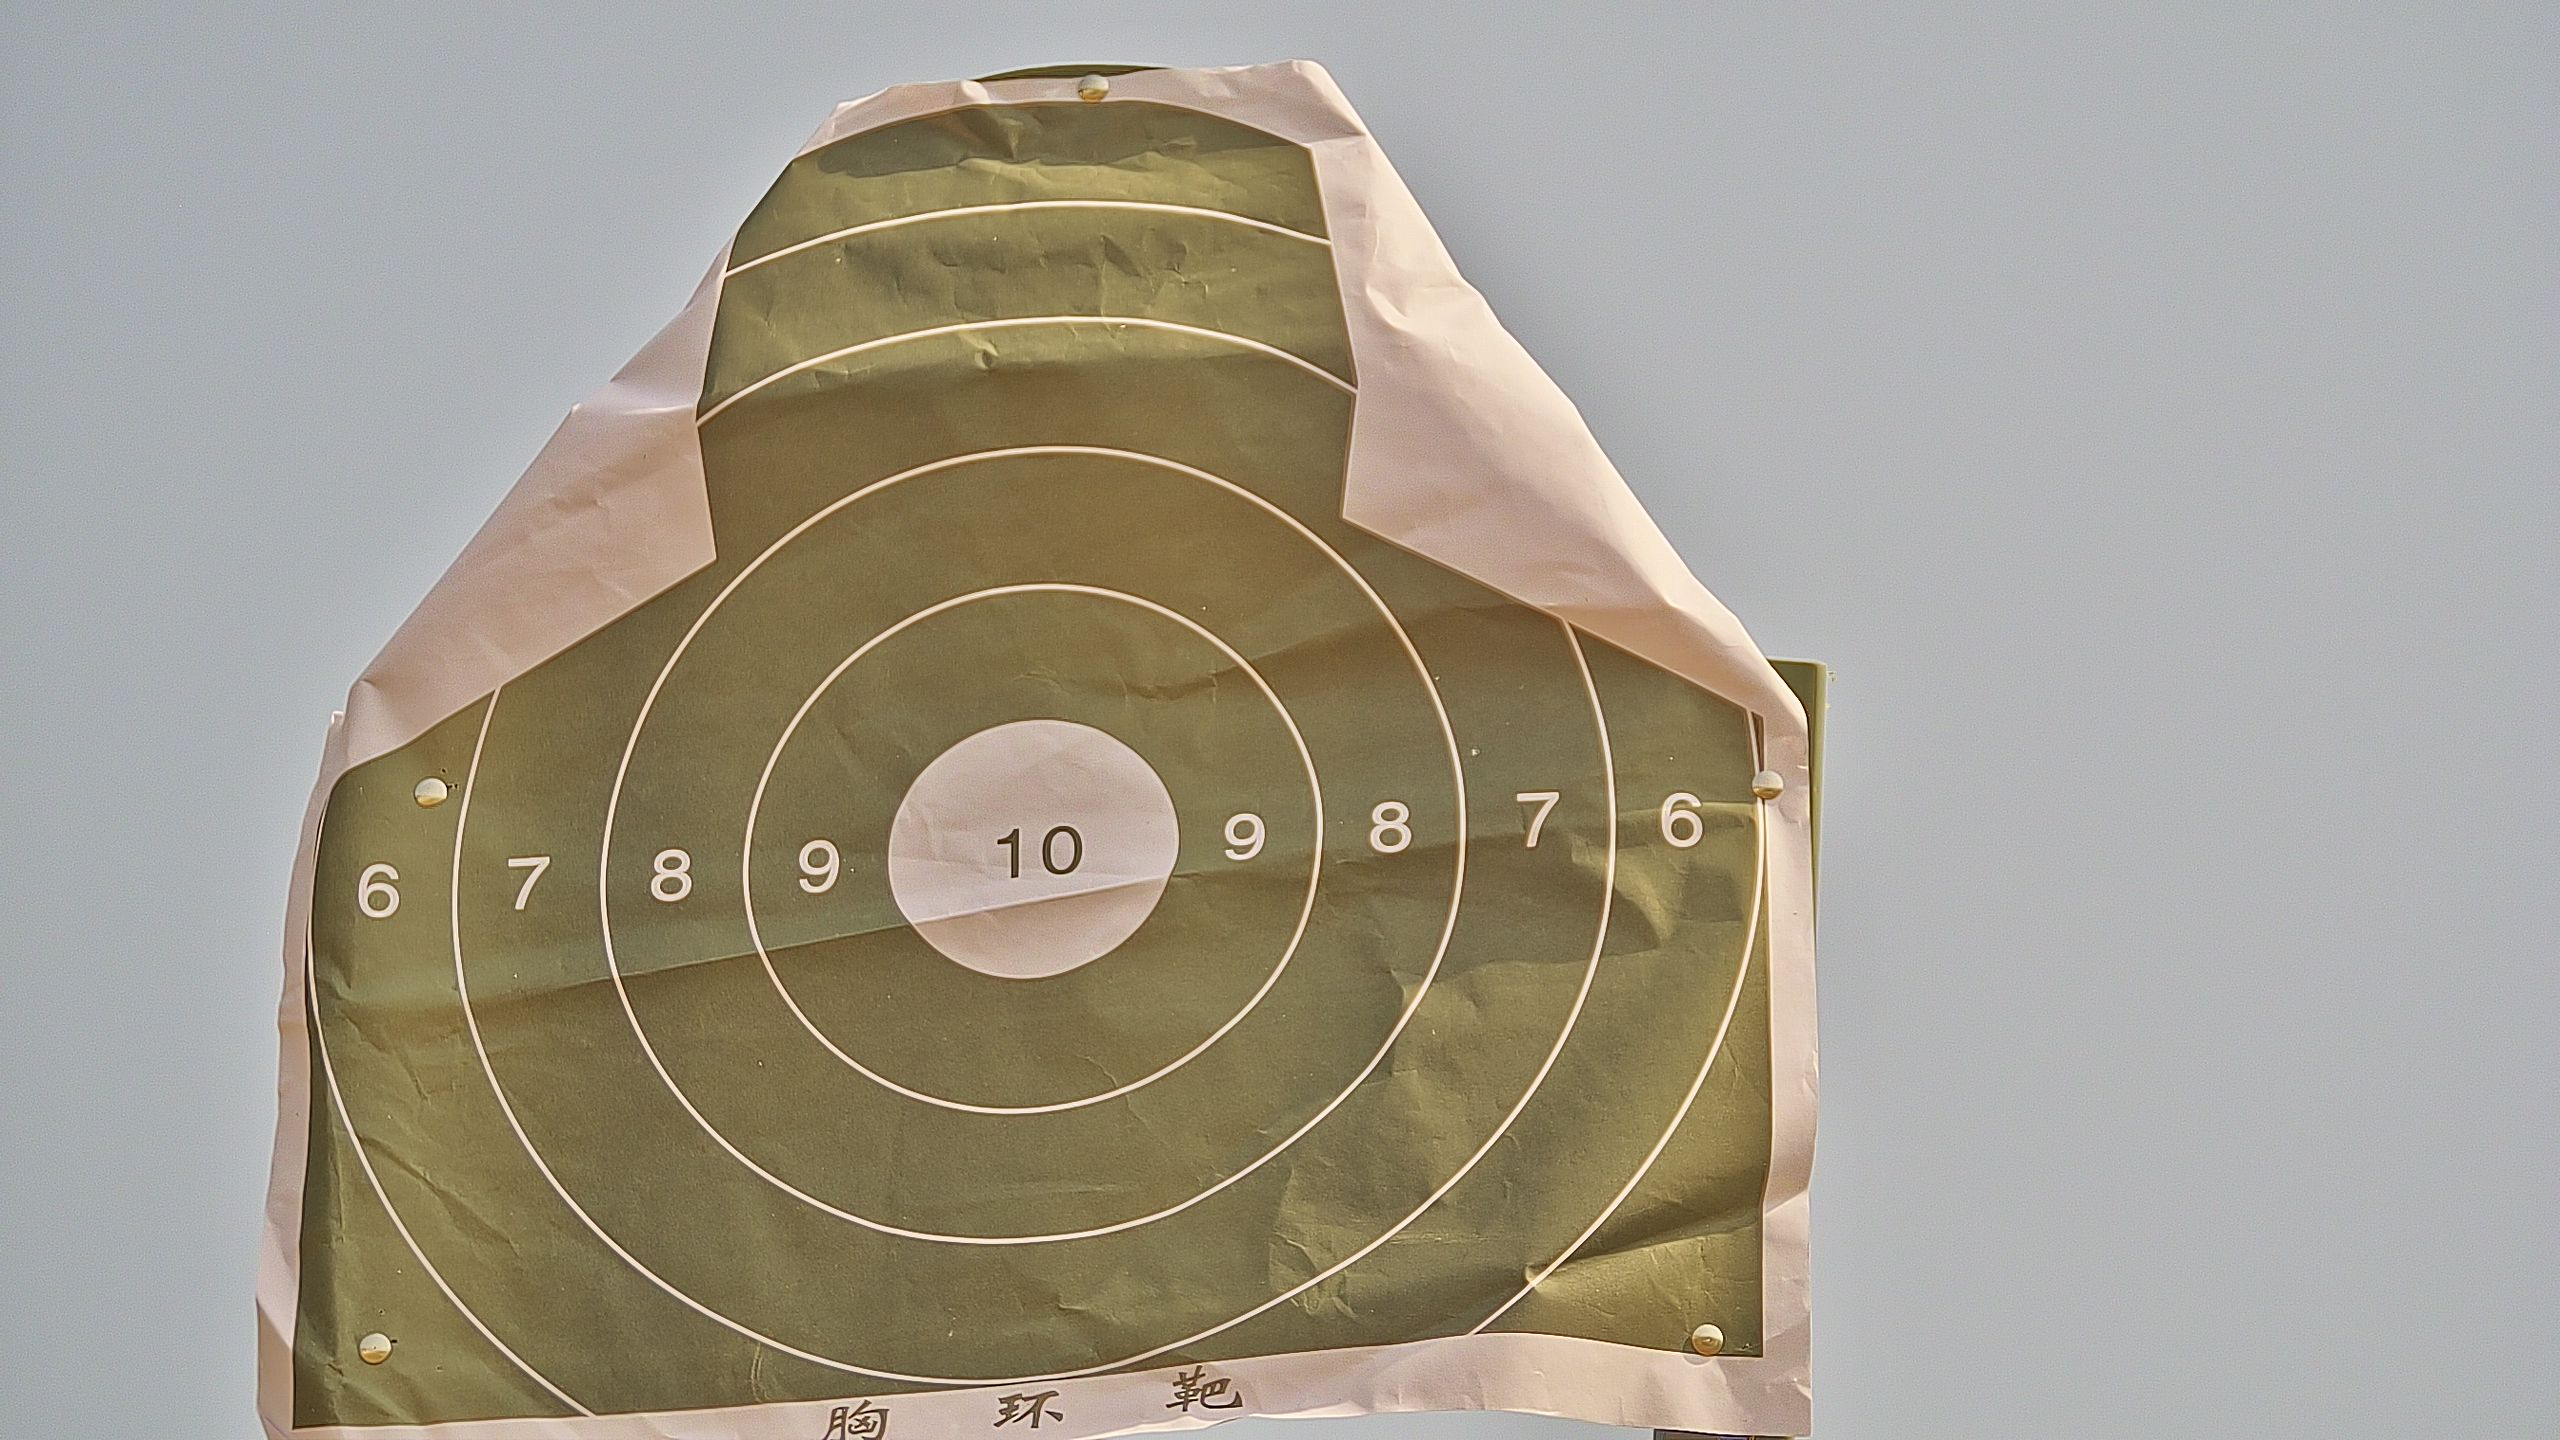kernel: (1027, 851, 1032, 856)
target: (283, 95, 1771, 1422)
ten: (886, 716, 1176, 979)
